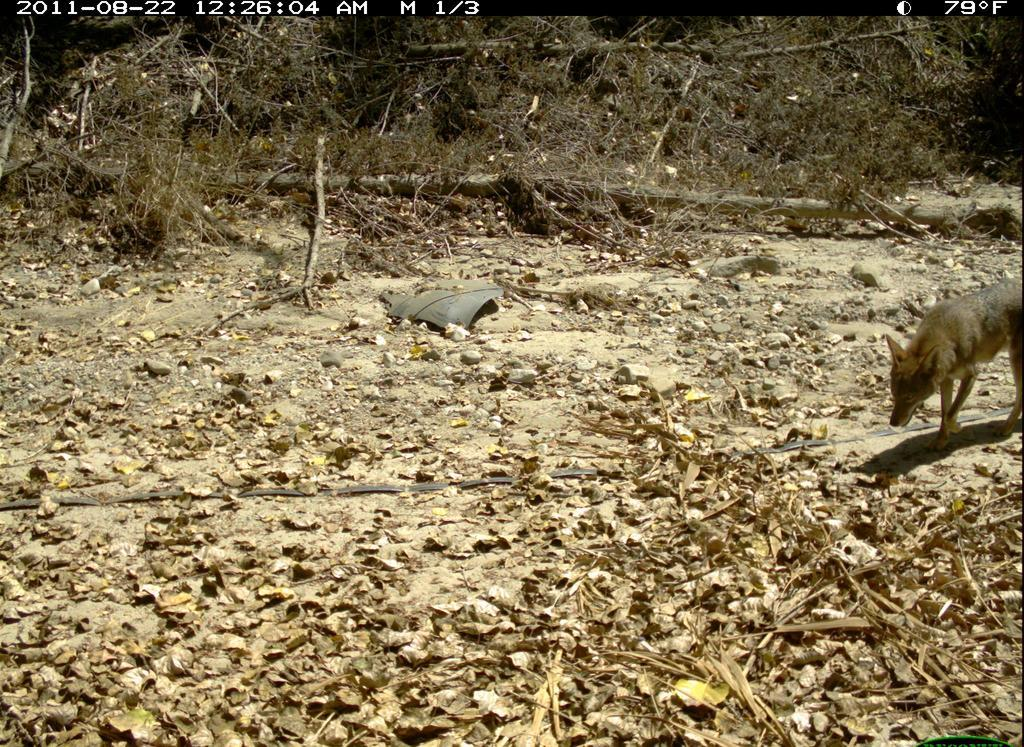coyote: (863, 263, 1022, 449)
